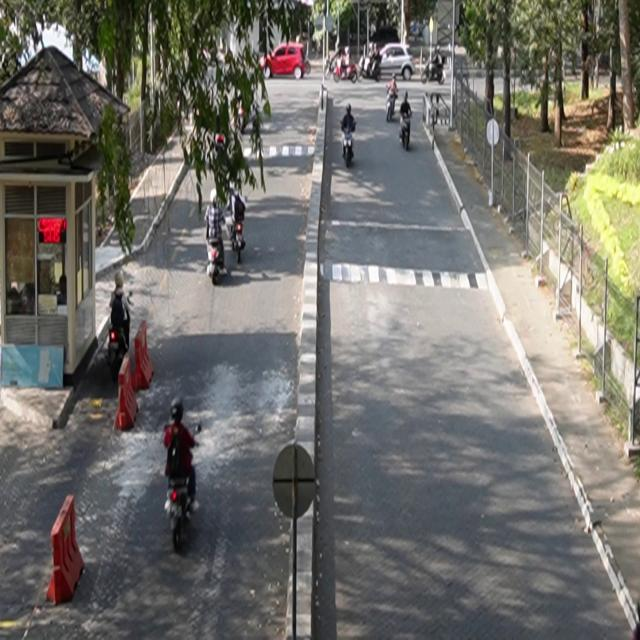car: (260, 43, 312, 81), (372, 44, 416, 82)
